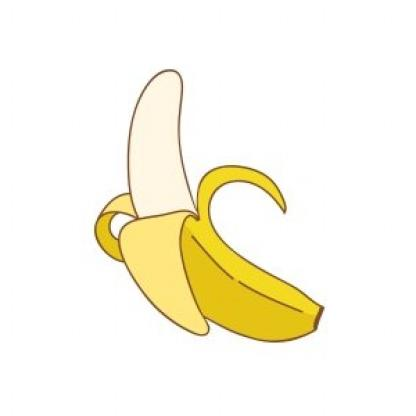banana: (115, 58, 322, 356)
